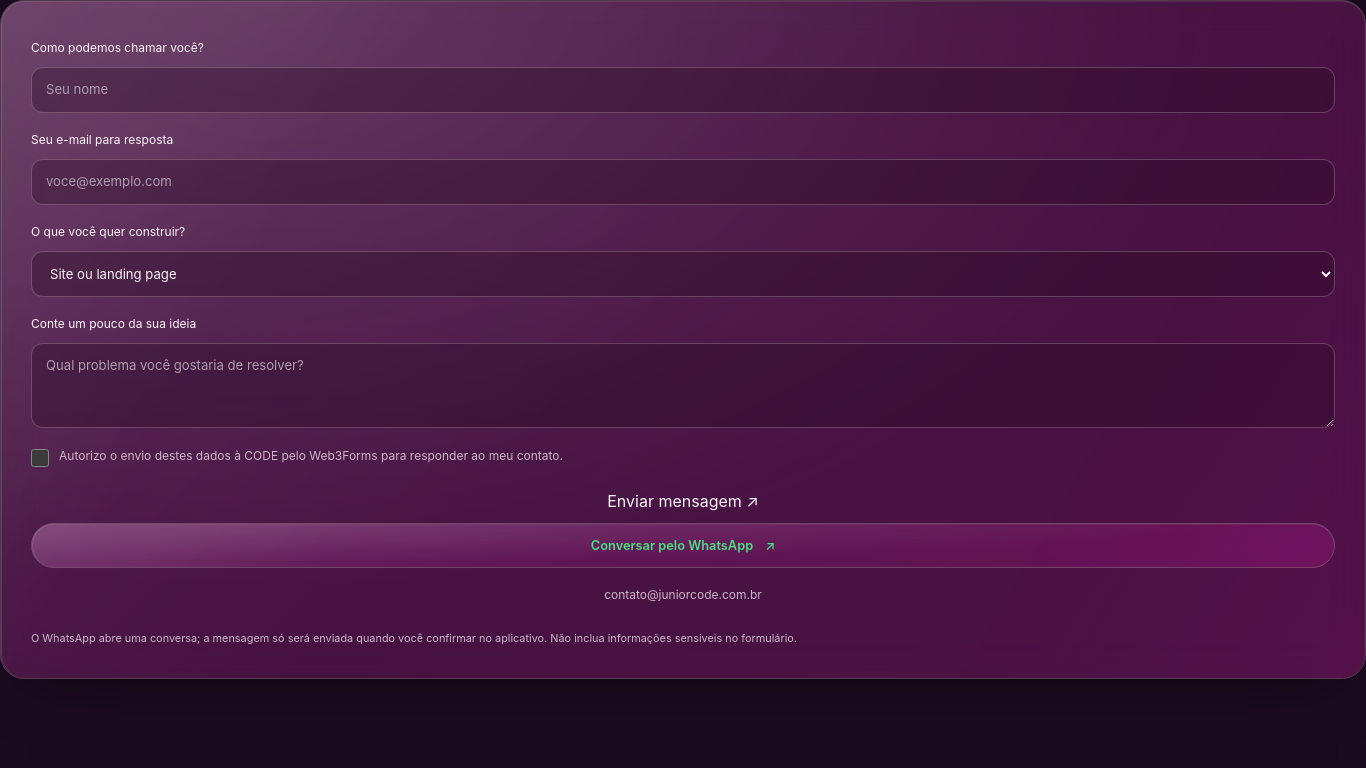
Test case: Contato CODE › preserva a mensagem quando há falha: network
Step 1. Type "Pessoa de teste" into the field labelled "Como podemos chamar você?" → {"x": 683, "y": 90}, box [31,67,1335,113]
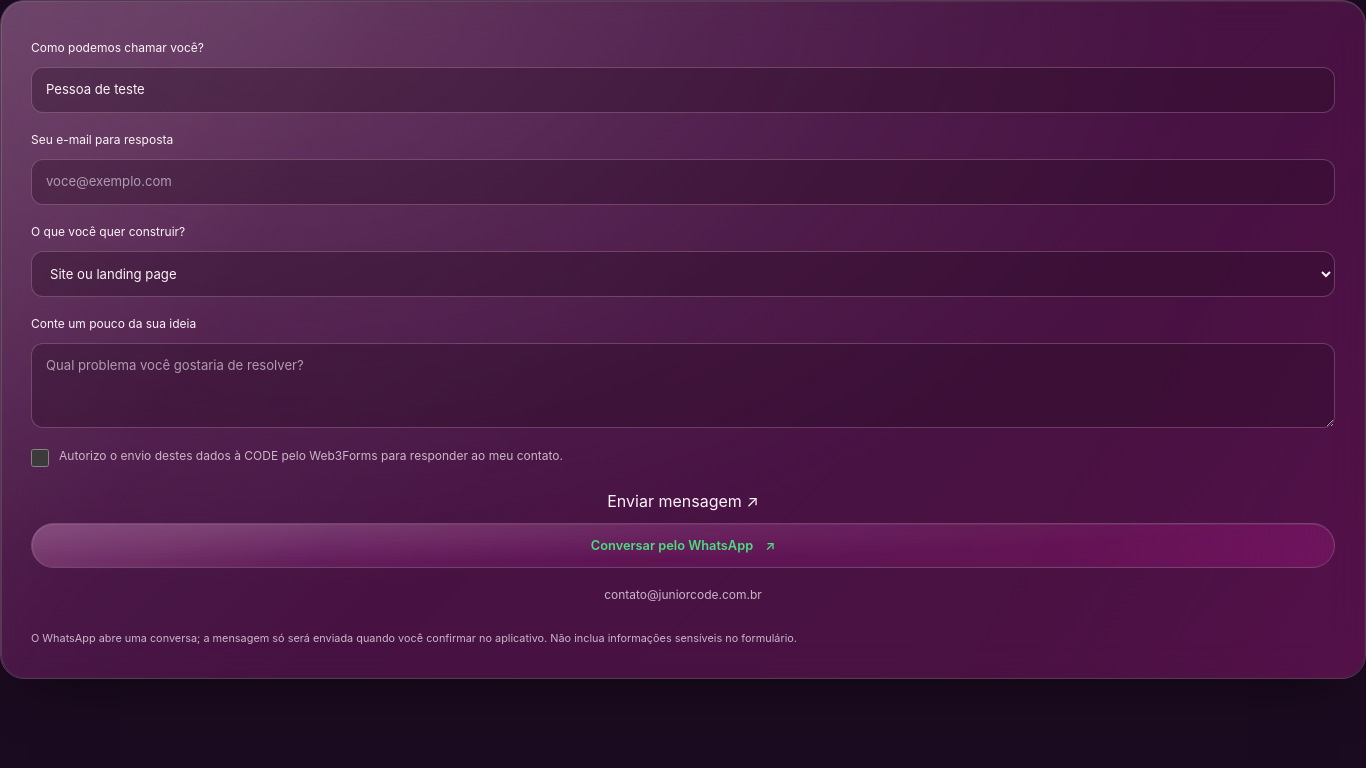
Step 2. Type "teste@example.com" into the field labelled "Seu e-mail para resposta" → {"x": 683, "y": 182}, box [31,159,1335,205]
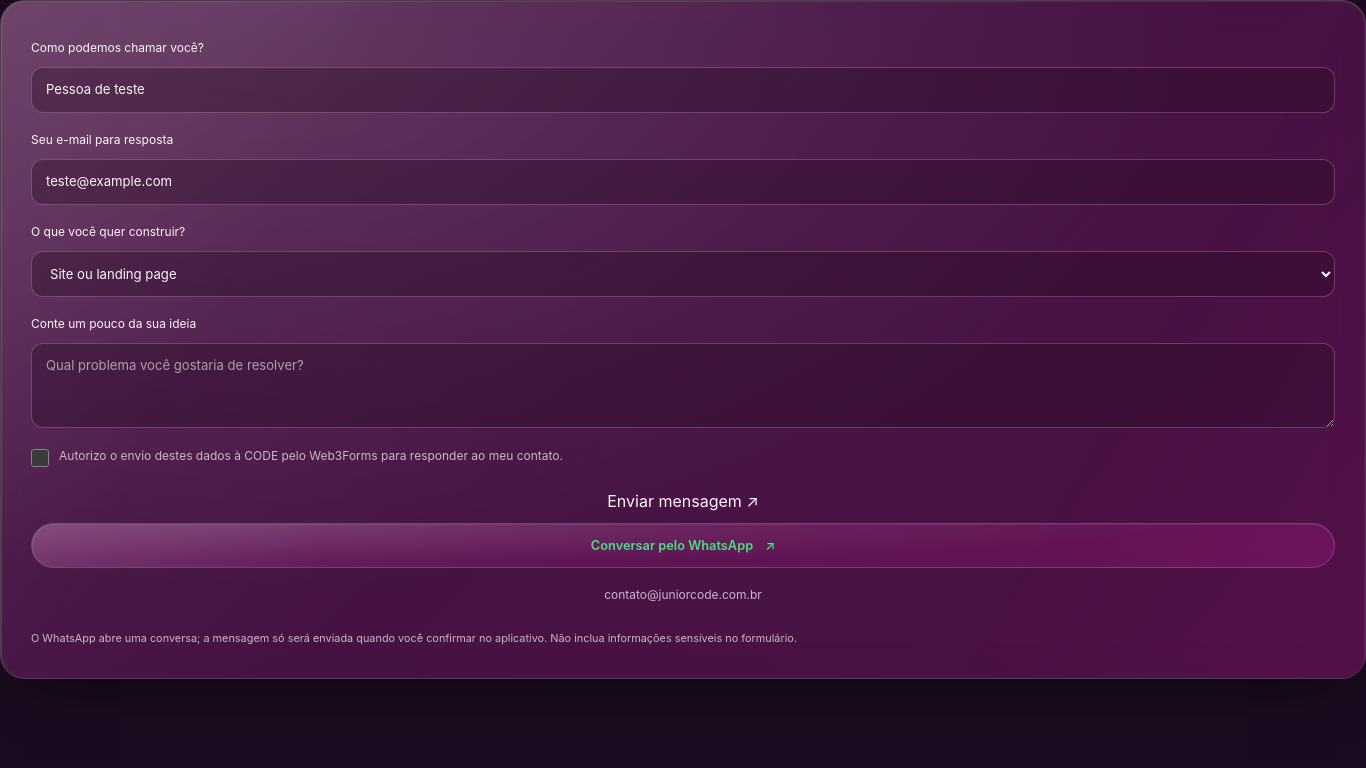
Step 3. Type "Gostaria de construir um site." into the text box labelled "Conte um pouco da sua ideia" → {"x": 683, "y": 386}, box [31,343,1335,428]
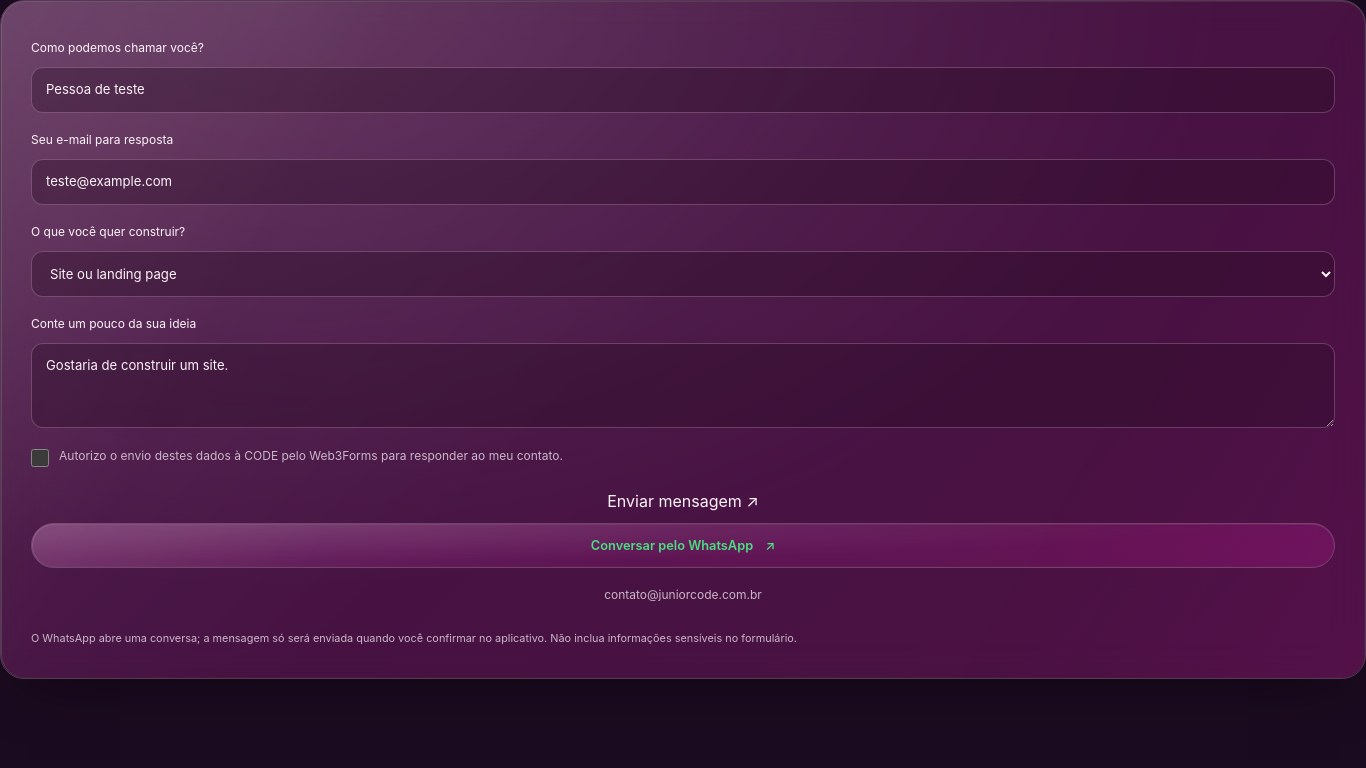
Step 4. Click the checkbox → {"x": 40, "y": 458}, box [31,449,49,467]
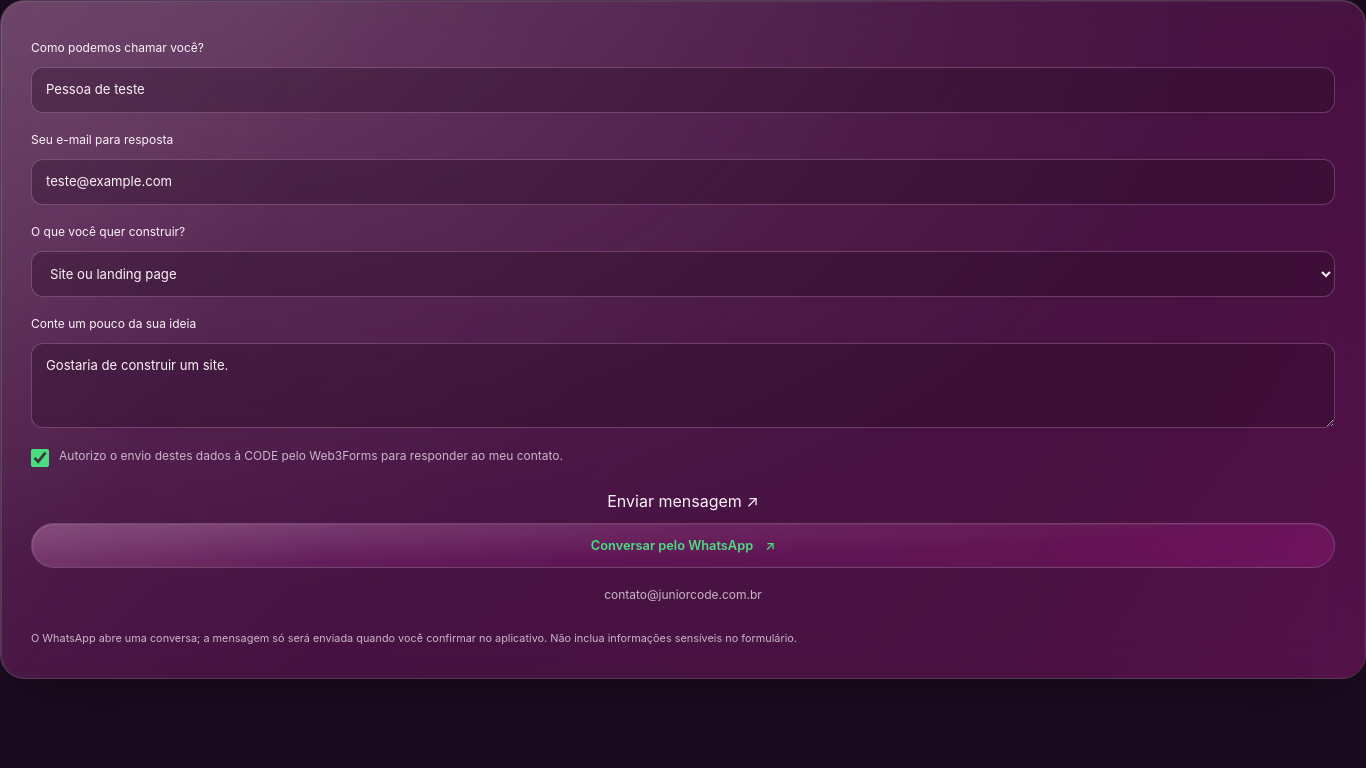
Step 5. Submit the form
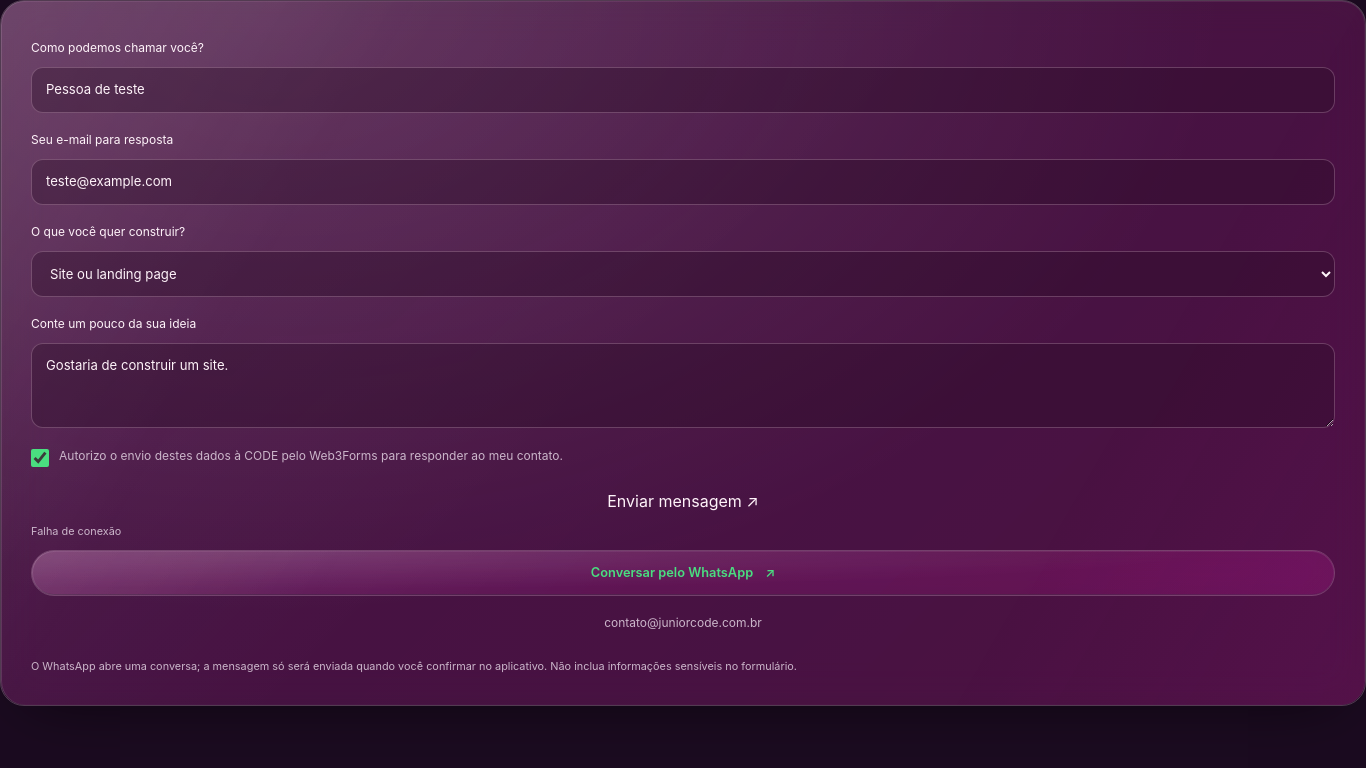
Now the message "Falha de conexão" is shown, box [31,524,121,538]
